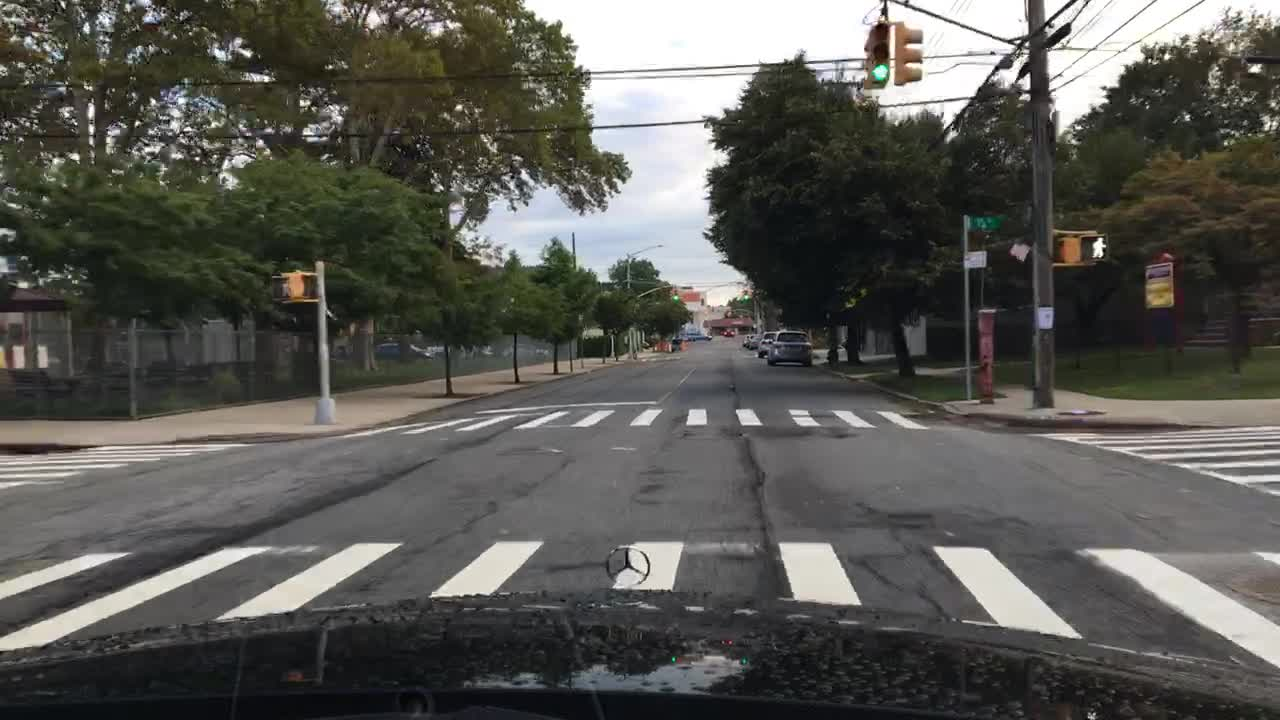car: (767, 329, 813, 365), (369, 338, 427, 359), (753, 330, 779, 356), (678, 329, 715, 339), (742, 333, 761, 350), (662, 335, 682, 347), (721, 326, 739, 336), (739, 332, 751, 344)
traffic light: (896, 22, 925, 83), (868, 18, 890, 86), (1074, 235, 1108, 263), (269, 273, 297, 296), (1054, 236, 1077, 261), (297, 276, 312, 301), (670, 286, 679, 301), (742, 286, 750, 301)
traffic sign: (1143, 261, 1174, 310), (965, 215, 1000, 229), (965, 250, 986, 267), (1012, 240, 1028, 260)
